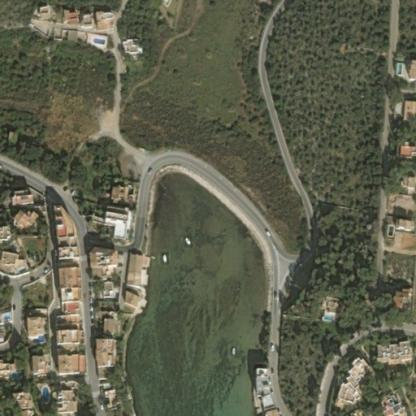ship: (180, 232, 194, 247), (158, 250, 170, 266), (227, 343, 238, 358)
